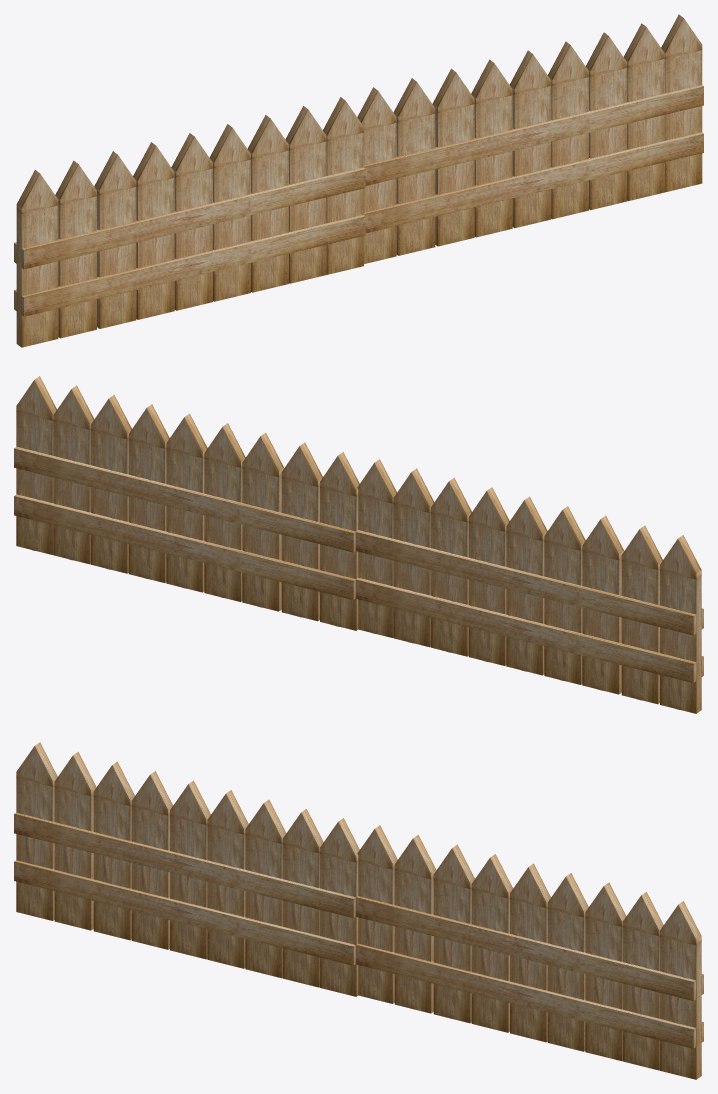
File: Valla.obj
3 views of the same model, one above another, from view 1: azimuth 30°, elevation 25°; view 2: azimuth 150°, elevation 25°; view 3: azimuth 330°, elevation 25° (orthographic).
Visible parts, largest first — view 1: wood_9.001; view 2: wood_9.001; view 3: wood_9.001.
Part boxes in pixels (<box>): wood_9.001: <box>14,14,703,347</box>; wood_9.001: <box>14,376,703,713</box>; wood_9.001: <box>14,742,703,1079</box>.
Bounding box in the file's own units: 2.69 × 0.6447 × 0.0839.
2 materials, 2 textured.
